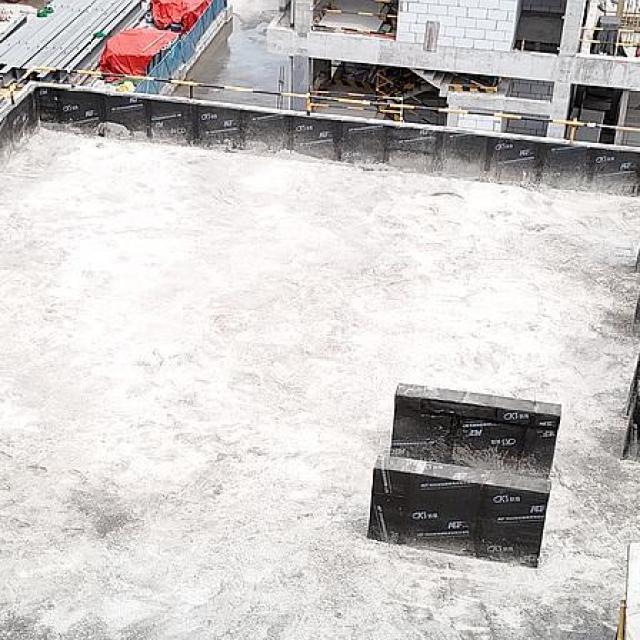edge_guardrail: (18, 73, 640, 143), (313, 8, 398, 38), (309, 89, 404, 114), (580, 27, 640, 56)
